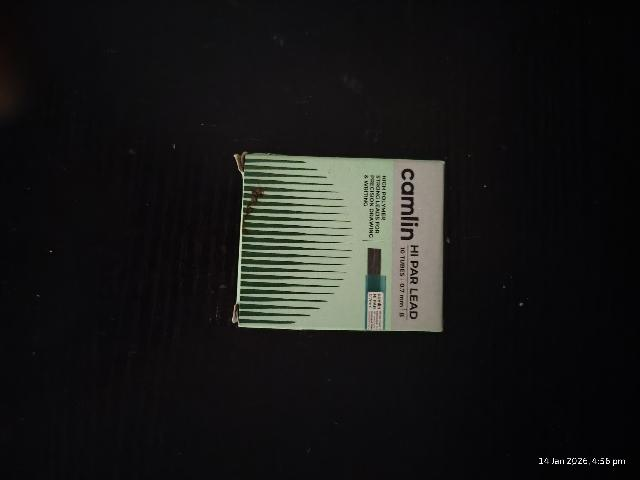camlin lids: (238, 155, 444, 331)
